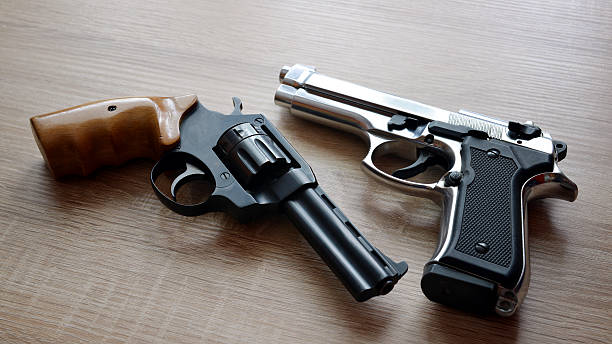gun: (27, 89, 409, 308), (274, 63, 580, 321)
